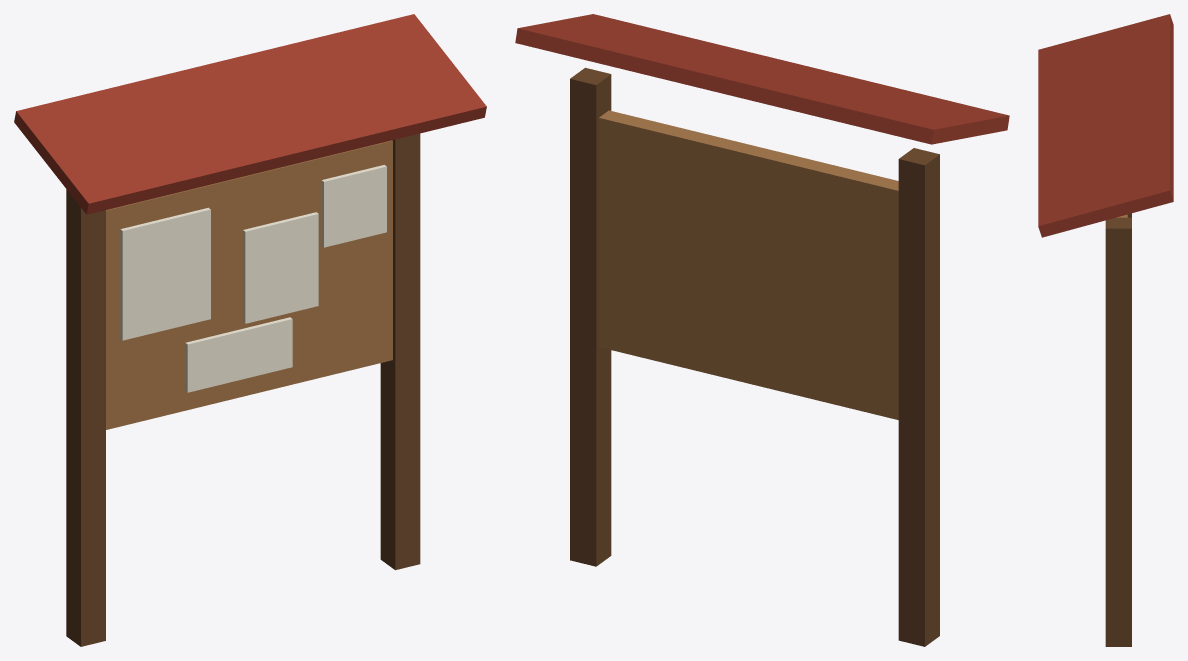
The model's file is prop_notice_board.glb.
3 views of the same model, side by side, from view 1: azimuth 30°, elevation 25°; view 2: azimuth 150°, elevation 25°; view 3: azimuth 270°, elevation 25° (orthographic). The views are drawn at different scales.
Parts seen in each view (by area): view 1: Prop_Notice_Board; view 2: Prop_Notice_Board; view 3: Prop_Notice_Board.
Part boxes in pixels (x1,y1,x2,y2): Prop_Notice_Board: (14,14,486,646); Prop_Notice_Board: (515,14,1009,646); Prop_Notice_Board: (1038,14,1173,646).
Size of the model in its own units: 1.9 by 2.36 by 0.6172.
